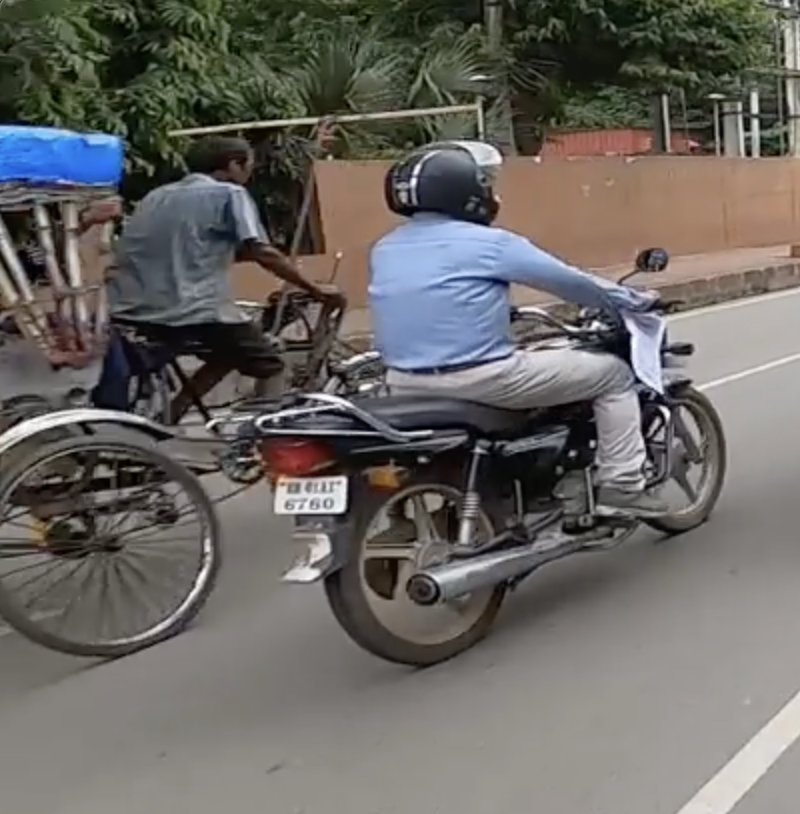motor: (281, 243, 727, 666)
number: (270, 473, 346, 514)
with helmet: (385, 136, 503, 225)
